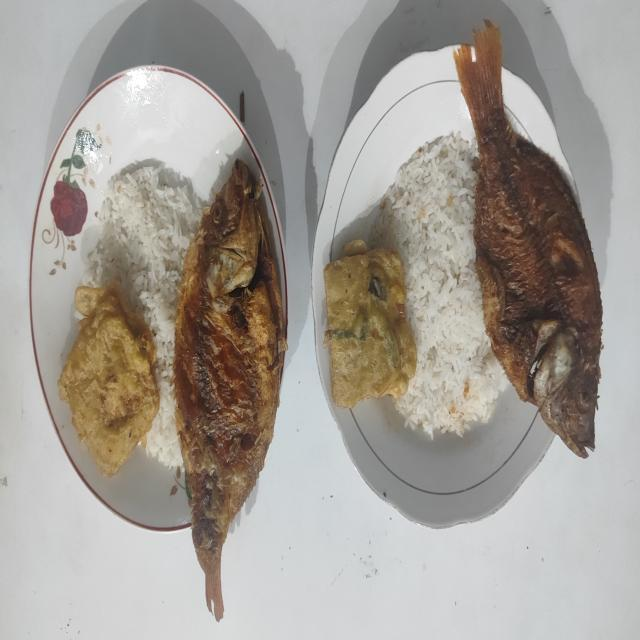ikan_mujair: (453, 20, 602, 458), (174, 161, 286, 620)
nasi_putih: (373, 132, 508, 439), (83, 164, 203, 468)
